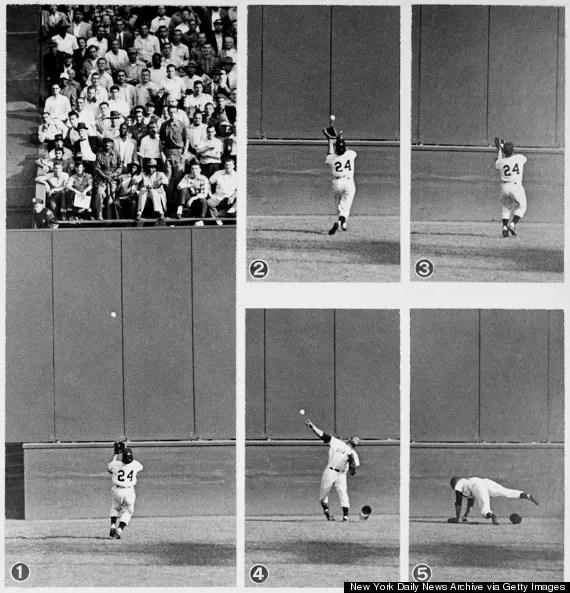baseball: (330, 112, 337, 120), (299, 409, 306, 416), (110, 312, 117, 318)
